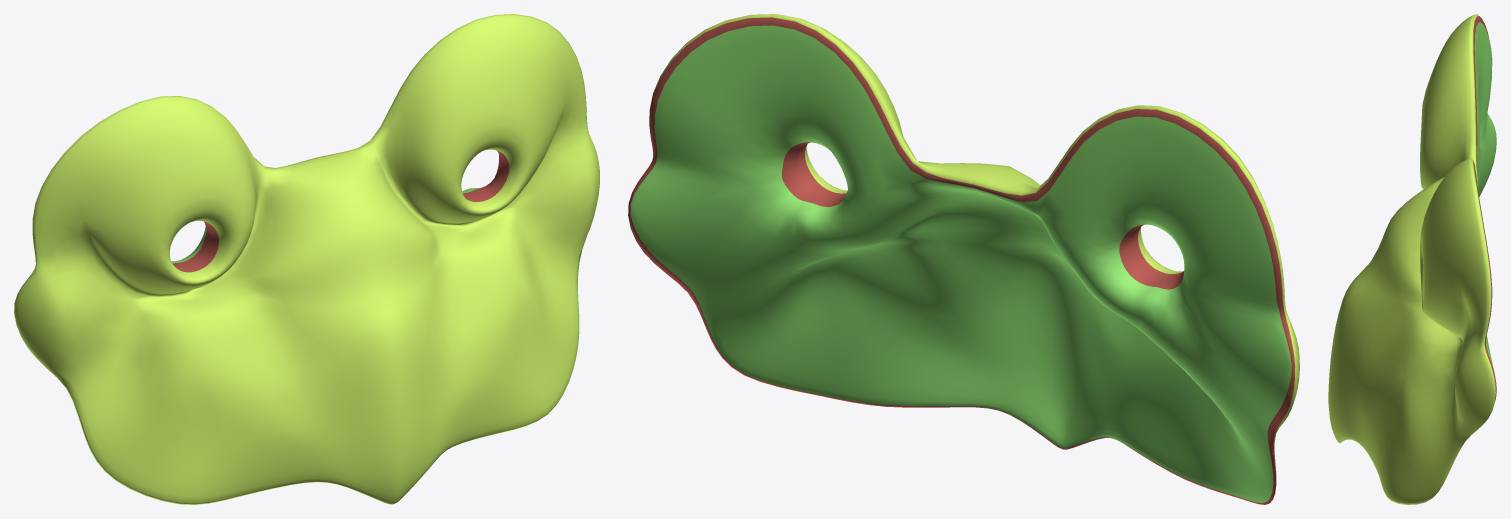
File: FrogMask001.fbx
3 views of the same model, side by side, from view 1: azimuth 30°, elevation 25°; view 2: azimuth 150°, elevation 25°; view 3: azimuth 270°, elevation 25° (orthographic). The views are drawn at different scales.
Parts seen in each view (by area): view 1: Line001; view 2: Line001; view 3: Line001.
Part boxes in pixels (<box>): Line001: <box>14,14,599,504</box>; Line001: <box>628,14,1299,504</box>; Line001: <box>1328,14,1496,504</box>.
Size of the model in its own units: 42.56 by 27.35 by 12.04.
